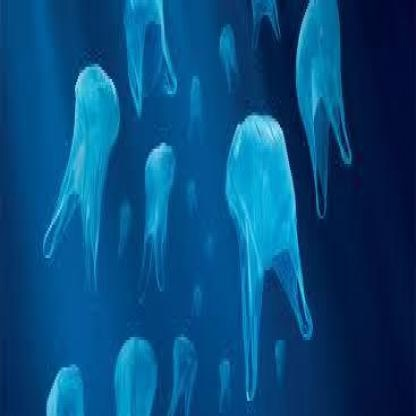pbag: (225, 112, 315, 401), (42, 61, 121, 298), (295, 3, 351, 222), (137, 143, 177, 306)
